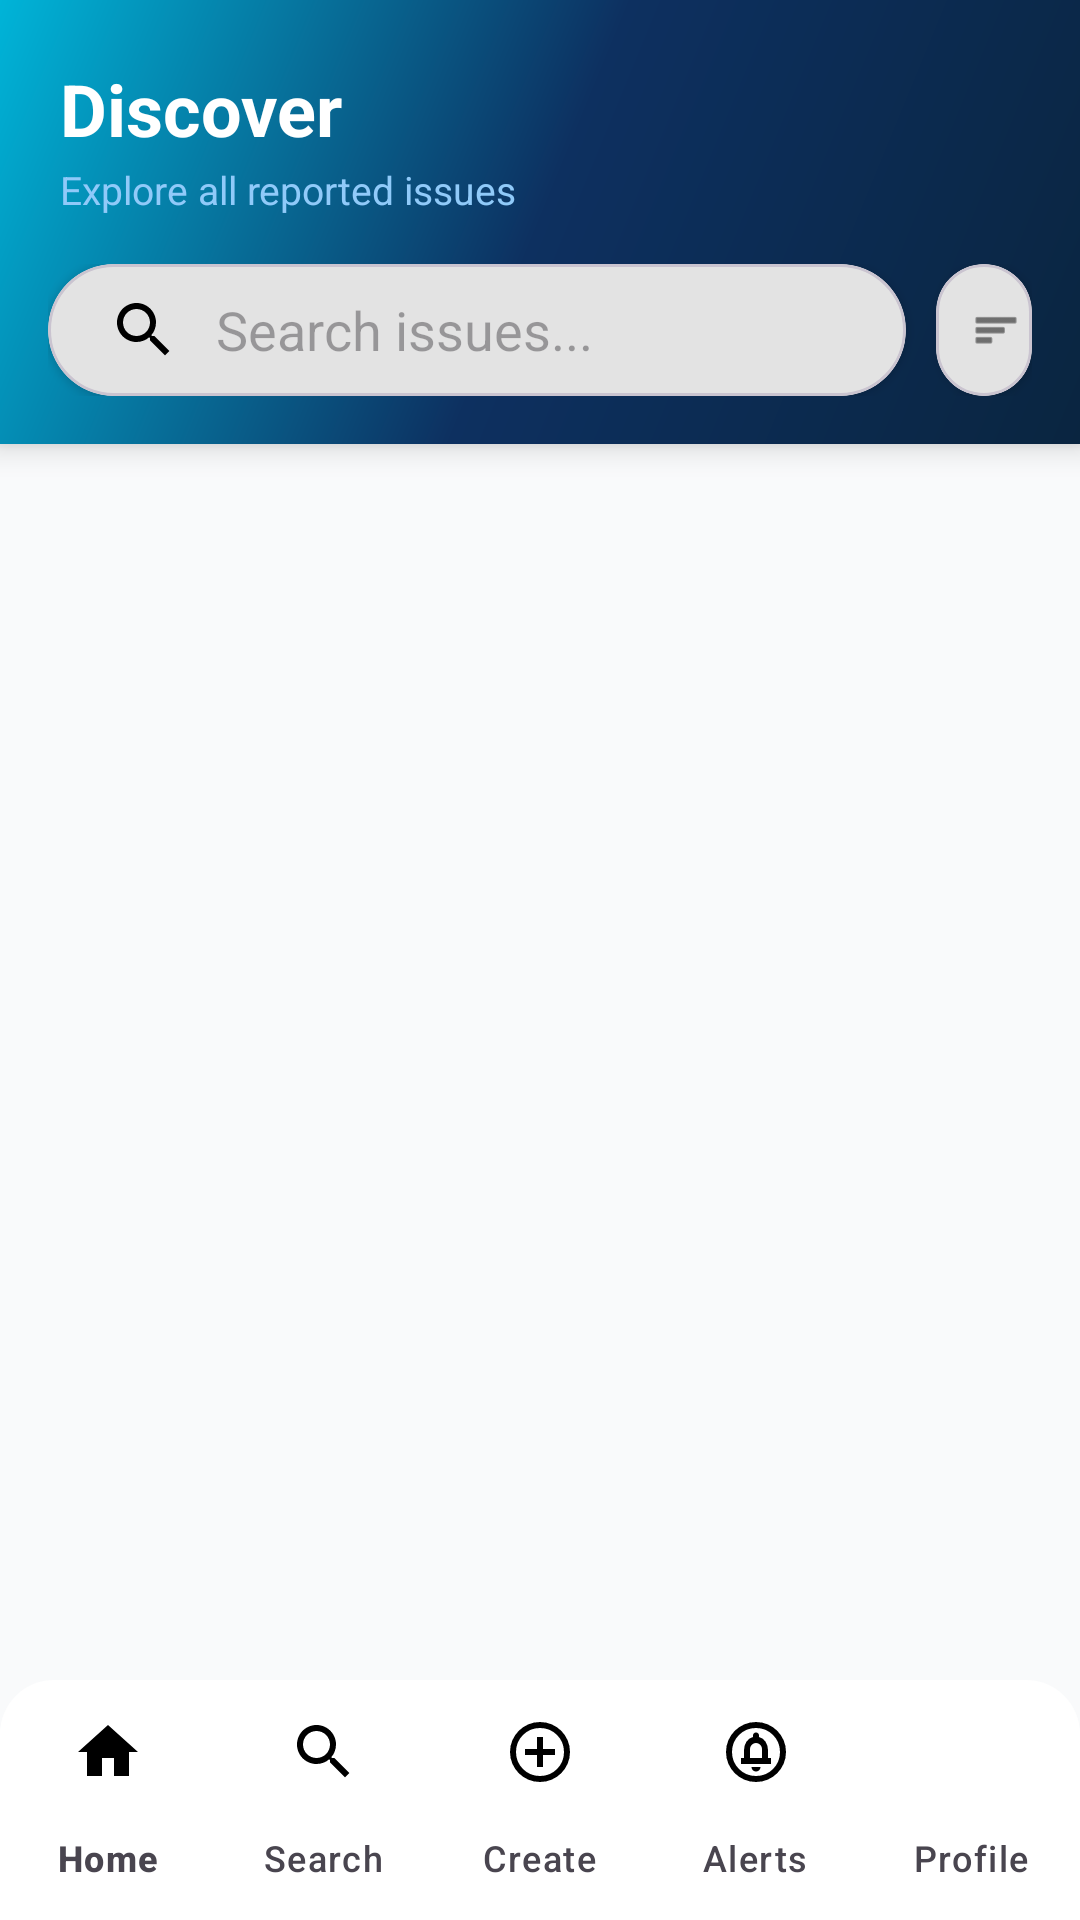

Icon bounding boxes for this 1080px x 1920px phone screenshot, format (x1, y1, x2, y2):
sort by size: (975, 317, 1017, 344)
